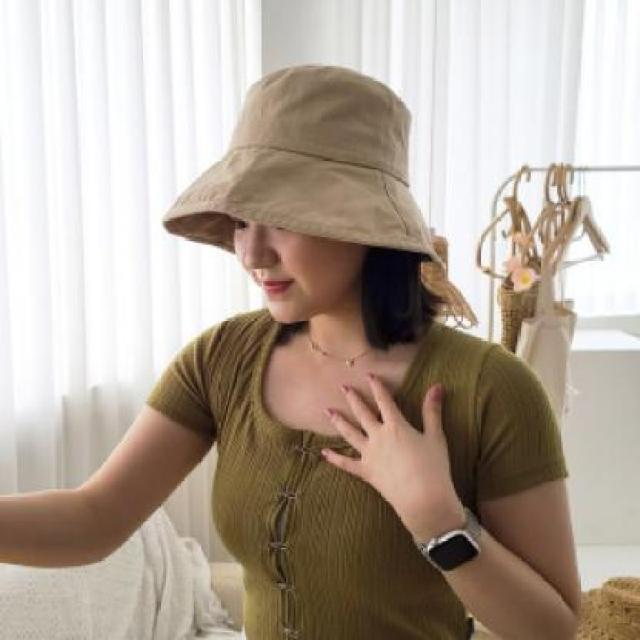hat: (165, 64, 446, 270)
